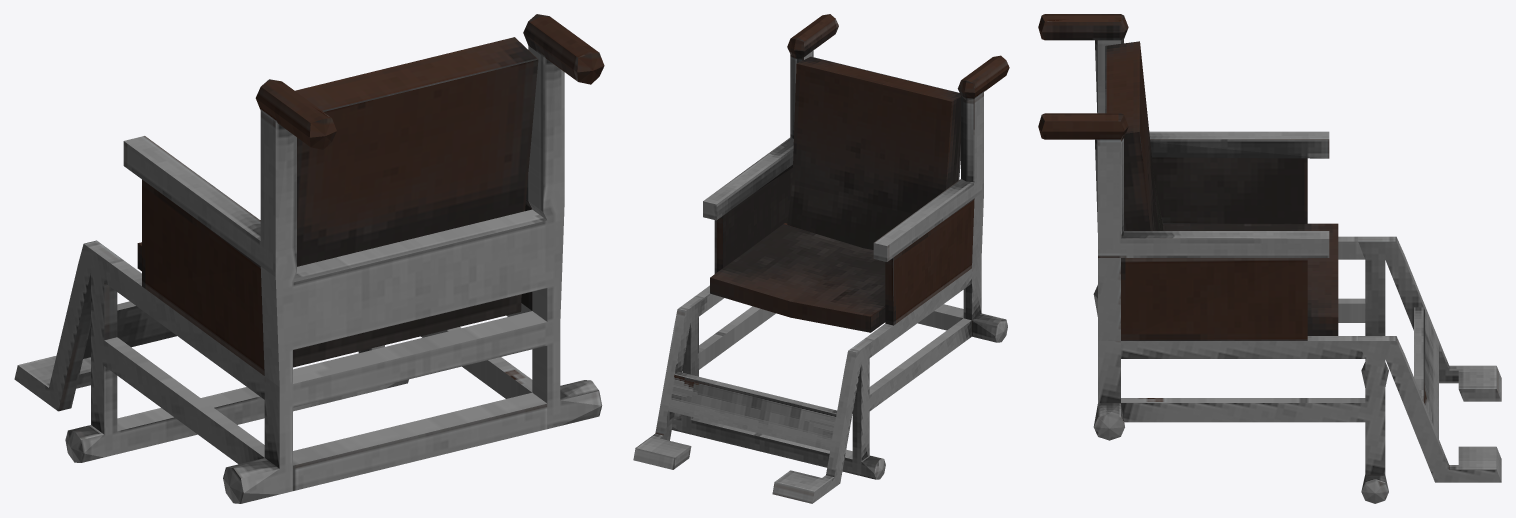
File: SM_WheelChair.fbx
The picture shows the model from 3 angles, left to right: view 1: azimuth 30°, elevation 25°; view 2: azimuth 150°, elevation 25°; view 3: azimuth 270°, elevation 25°; orthographic projection. The views are drawn at different scales.
Visible parts, largest first — view 1: SM_WheelChair; view 2: SM_WheelChair; view 3: SM_WheelChair.
Boxes of the visible parts, box(x1,y1,x2,y2) form: SM_WheelChair: box(14, 14, 604, 503); SM_WheelChair: box(633, 14, 1009, 503); SM_WheelChair: box(1038, 14, 1501, 503).
Bounding box in the file's own units: 89.96 × 117 × 130.
